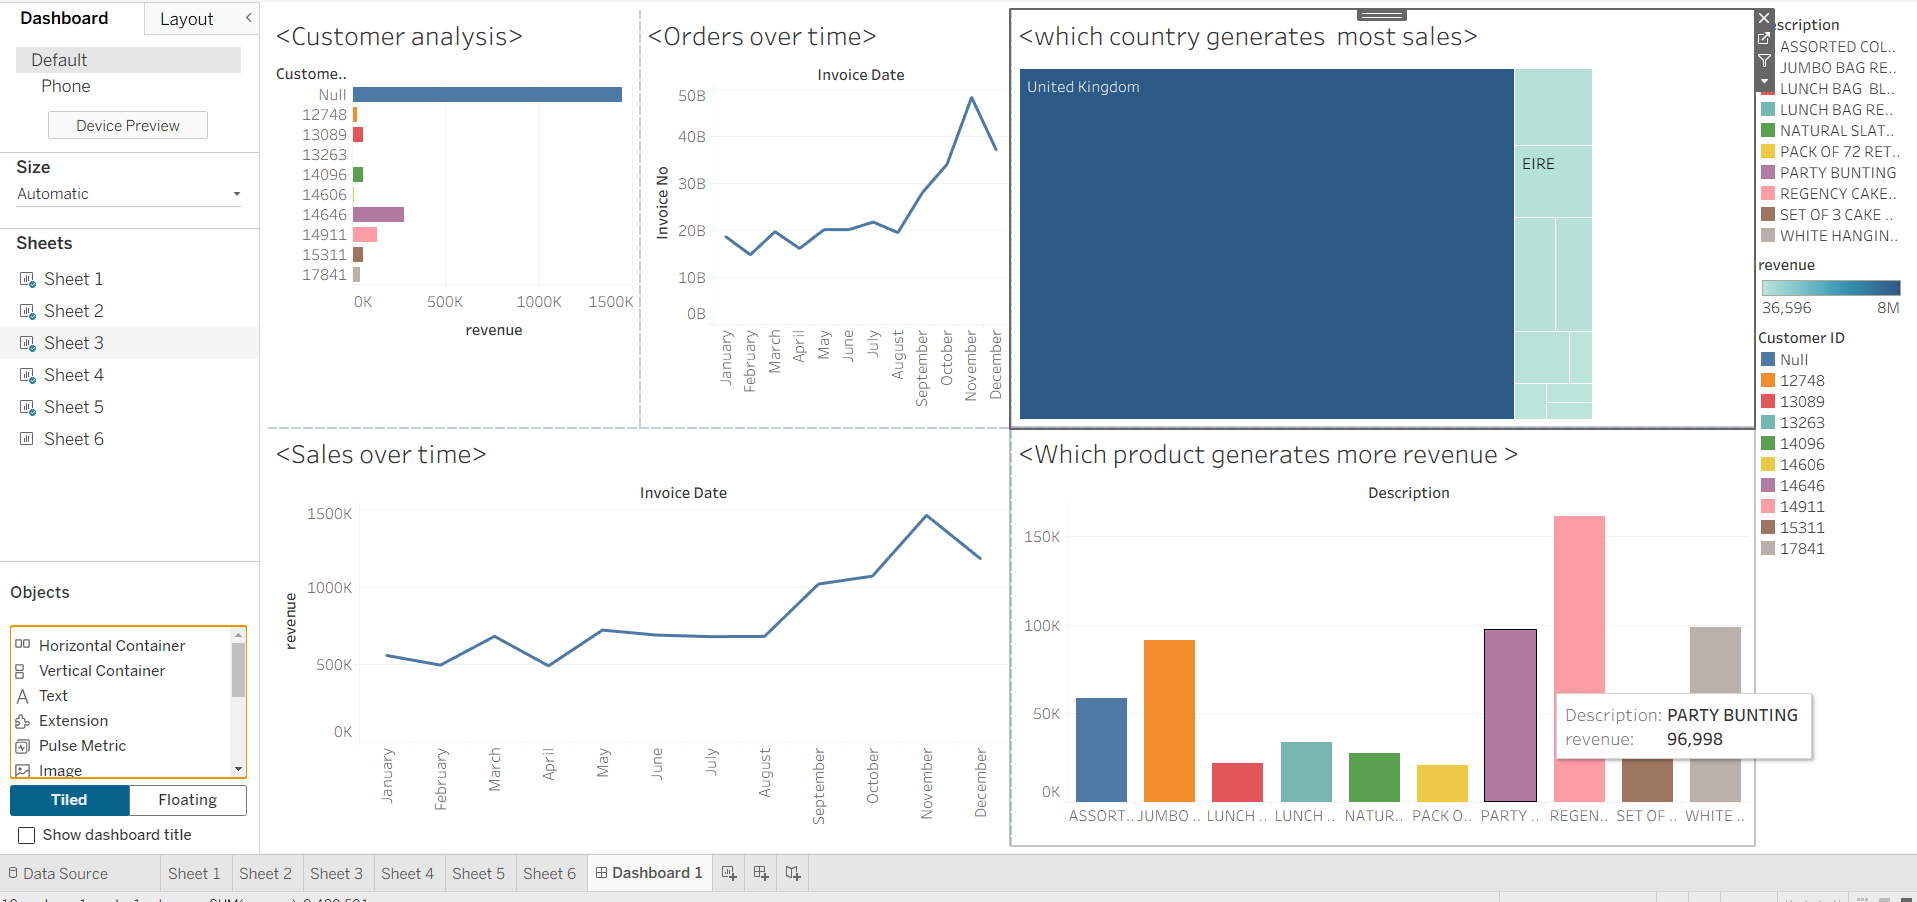

What the dashboard file says about the page in this screenshot:
{"tool":"tableau","page":{"name":"Dashboard 1","canvas":[1000,1000],"units":"permille","ordinal":0},"visuals":[{"type":"worksheet","title":"Sheet 4","mark":"Automatic","rows":["CustomerID"],"cols":["Calculation_1628431455842304"],"box":[4.8,9.4,224.2,490.6]},{"type":"worksheet","title":"Sheet 5","mark":"Automatic","rows":["InvoiceNo"],"cols":["InvoiceDate"],"box":[229,9.4,224.2,490.6]},{"type":"worksheet","title":"Sheet 3","mark":"Automatic","box":[453.2,9.4,448.4,490.6]},{"type":"legend","title":"Sheet 1","param":"[federated.1dhdl090u72ae515v5all0s9otic].[none:Description:nk]","box":[901.6,9.4,93.5,282]},{"type":"legend","title":"Sheet 3","param":"[federated.1dhdl090u72ae515v5all0s9otic].[sum:Calculation_1628431455842304:qk]","box":[901.6,291.4,93.5,85.8]},{"type":"legend","title":"Sheet 4","param":"[federated.1dhdl090u72ae515v5all0s9otic].[none:CustomerID:ok]","box":[901.6,377.2,93.5,282]},{"type":"worksheet","title":"Sheet 2","mark":"Automatic","rows":["Calculation_1628431455842304"],"cols":["InvoiceDate"],"box":[4.8,500,448.4,490.6]},{"type":"worksheet","title":"Sheet 1","mark":"Automatic","rows":["Calculation_1628431455842304"],"cols":["Description"],"box":[453.2,500,448.4,490.6]}]}

Visuals, with their boxes on the dashboard's canvas, which has no fixed pixel size, in thousandths of its width and height (x1, y1, x2, y2). These are canvas units, not pixel positions in the 1917x902 screenshot, which may show the page scaled, cropped or inside an application window:
"Sheet 4" worksheet: 5 9 229 500
"Sheet 5" worksheet: 229 9 453 500
"Sheet 3" worksheet: 453 9 902 500
"Sheet 1" legend: 902 9 995 291
"Sheet 3" legend: 902 291 995 377
"Sheet 4" legend: 902 377 995 659
"Sheet 2" worksheet: 5 500 453 991
"Sheet 1" worksheet: 453 500 902 991
